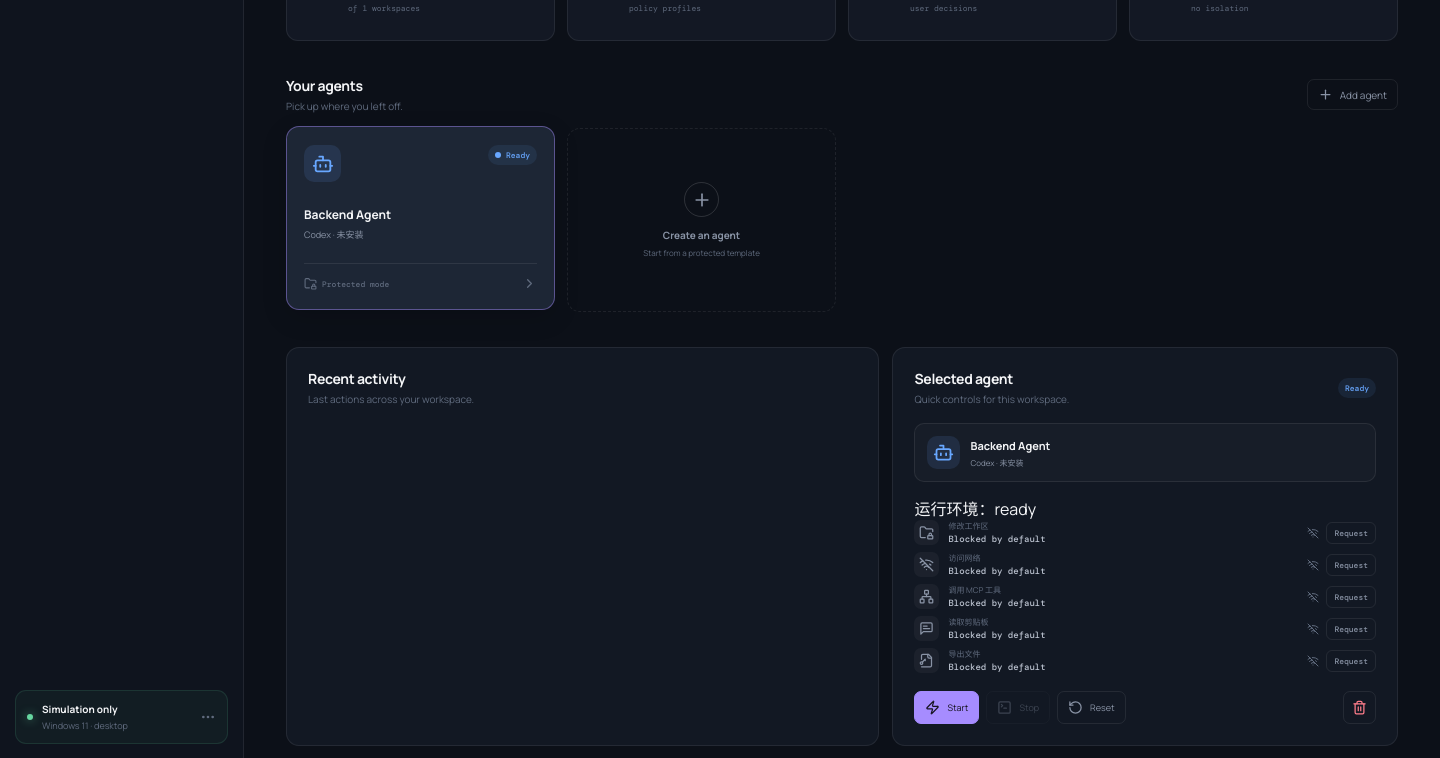
Test case: console runtime UI › keeps state on failure and provides refresh without reporting success
The image size is (1440, 758).
(page scrolled)
Click the button "Start" at (947, 708), box [914, 691, 980, 724]
(page scrolled)
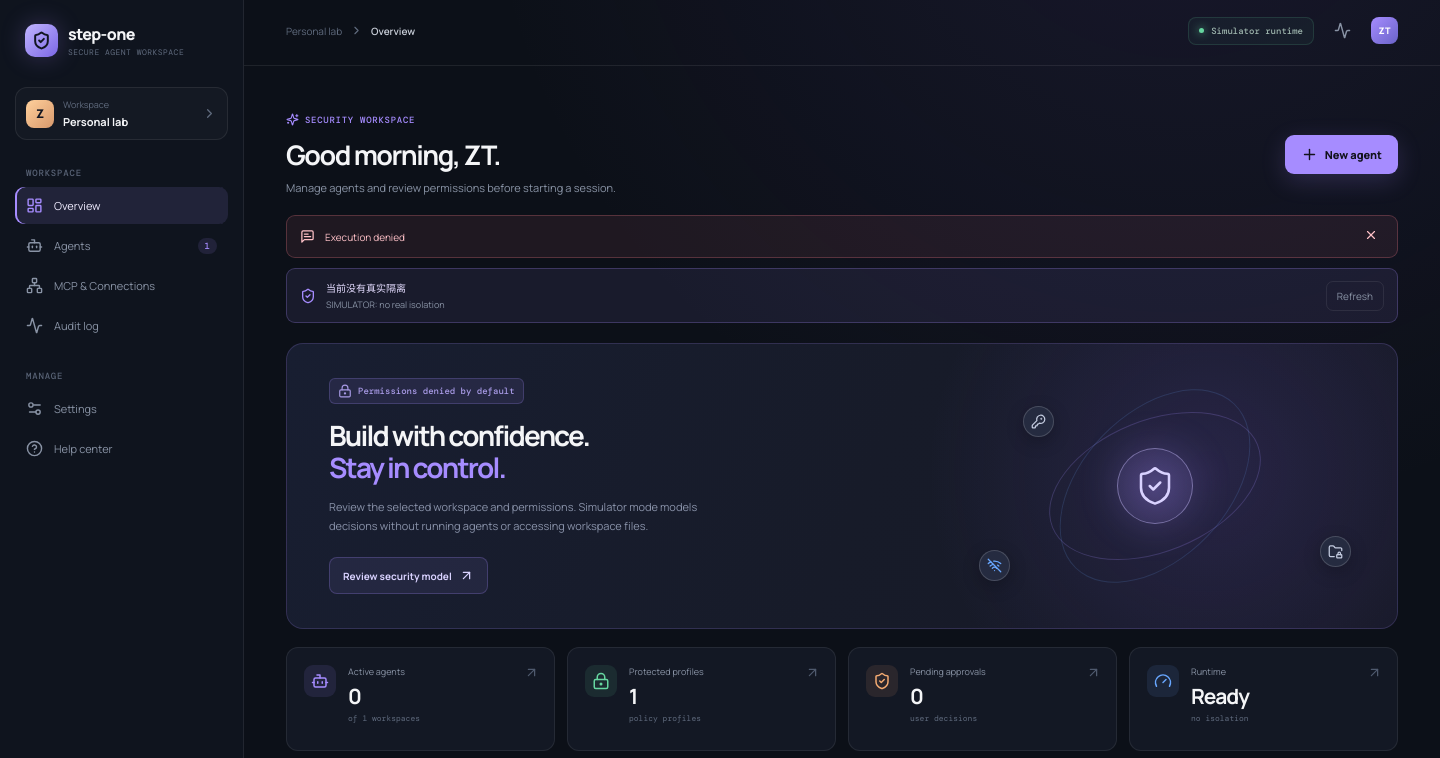
expect the message "Execution denied" is shown: met, box [286, 215, 1398, 258]
Click the button "Refresh" at (1355, 296), box [1326, 280, 1384, 310]
(page scrolled)
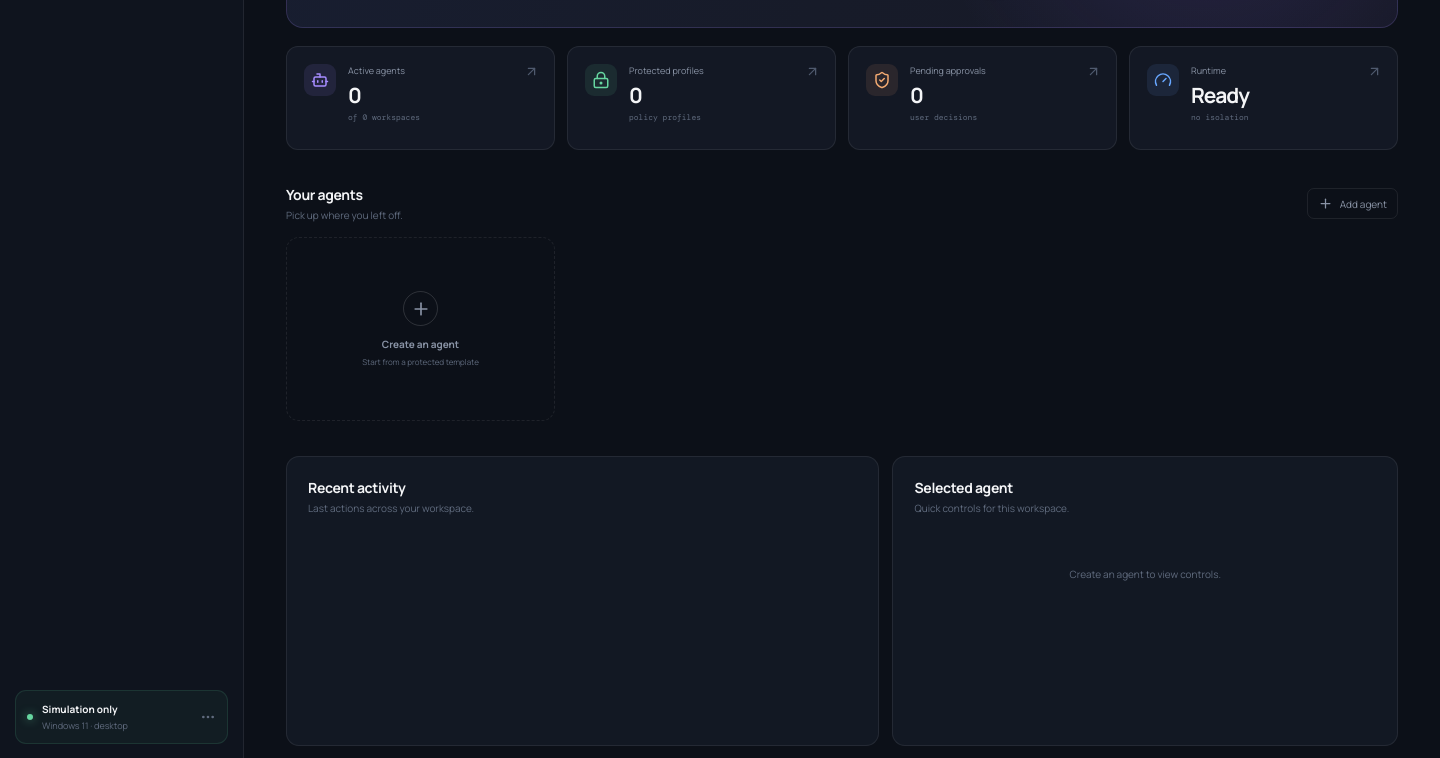
expect the text "Create an agent to view controls." is shown: met, box [1070, 567, 1221, 581]
